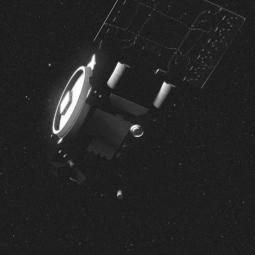proba_3_csc: (33, 0, 255, 196)
